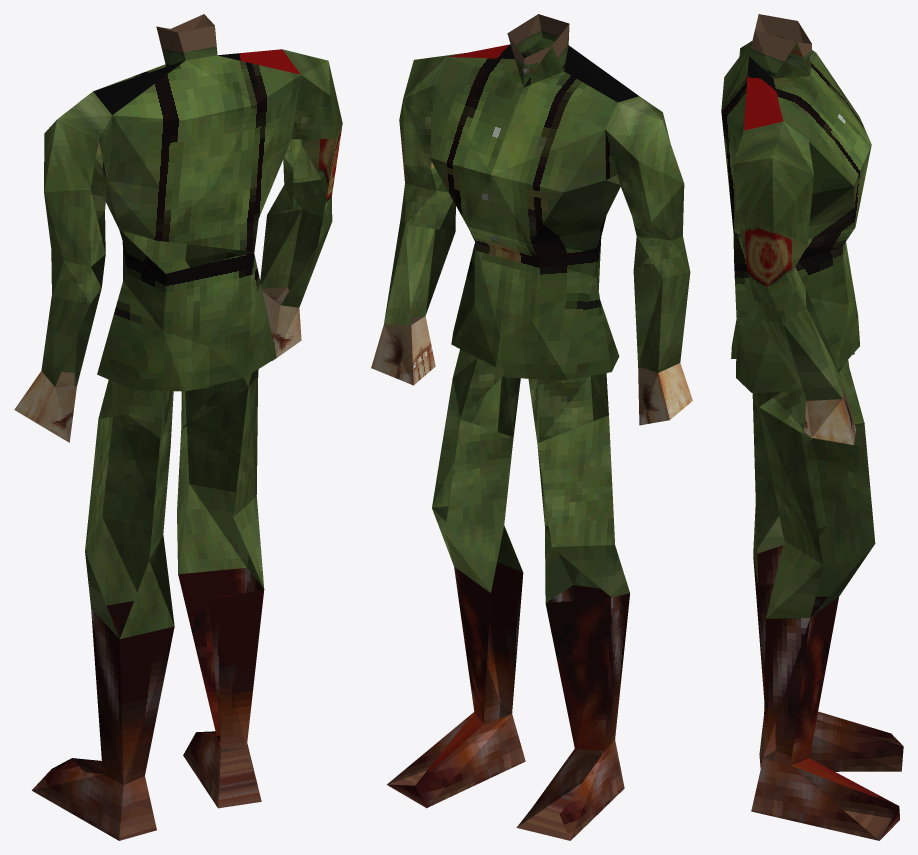
The model's file is primary_088.glb.
3 renders of one model, left to right at view 1: azimuth 30°, elevation 25°; view 2: azimuth 150°, elevation 25°; view 3: azimuth 270°, elevation 25°, orthographic. The views are drawn at different scales.
Visible parts, largest first — view 1: Object; view 2: Object; view 3: Object.
Part boxes in pixels (box(x1,y1,x2,y2)): Object: box(14, 14, 342, 840); Object: box(371, 14, 692, 840); Object: box(721, 14, 903, 840).
Size of the model in its own units: 0.7429 by 1.83 by 0.3924.
64 materials, 64 textured.
